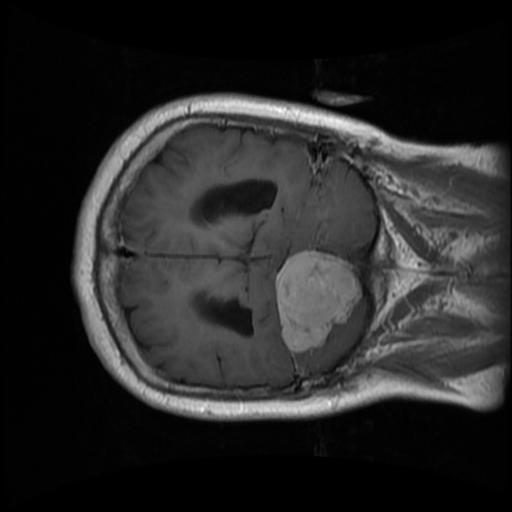meningioma: (274, 250, 361, 352)
